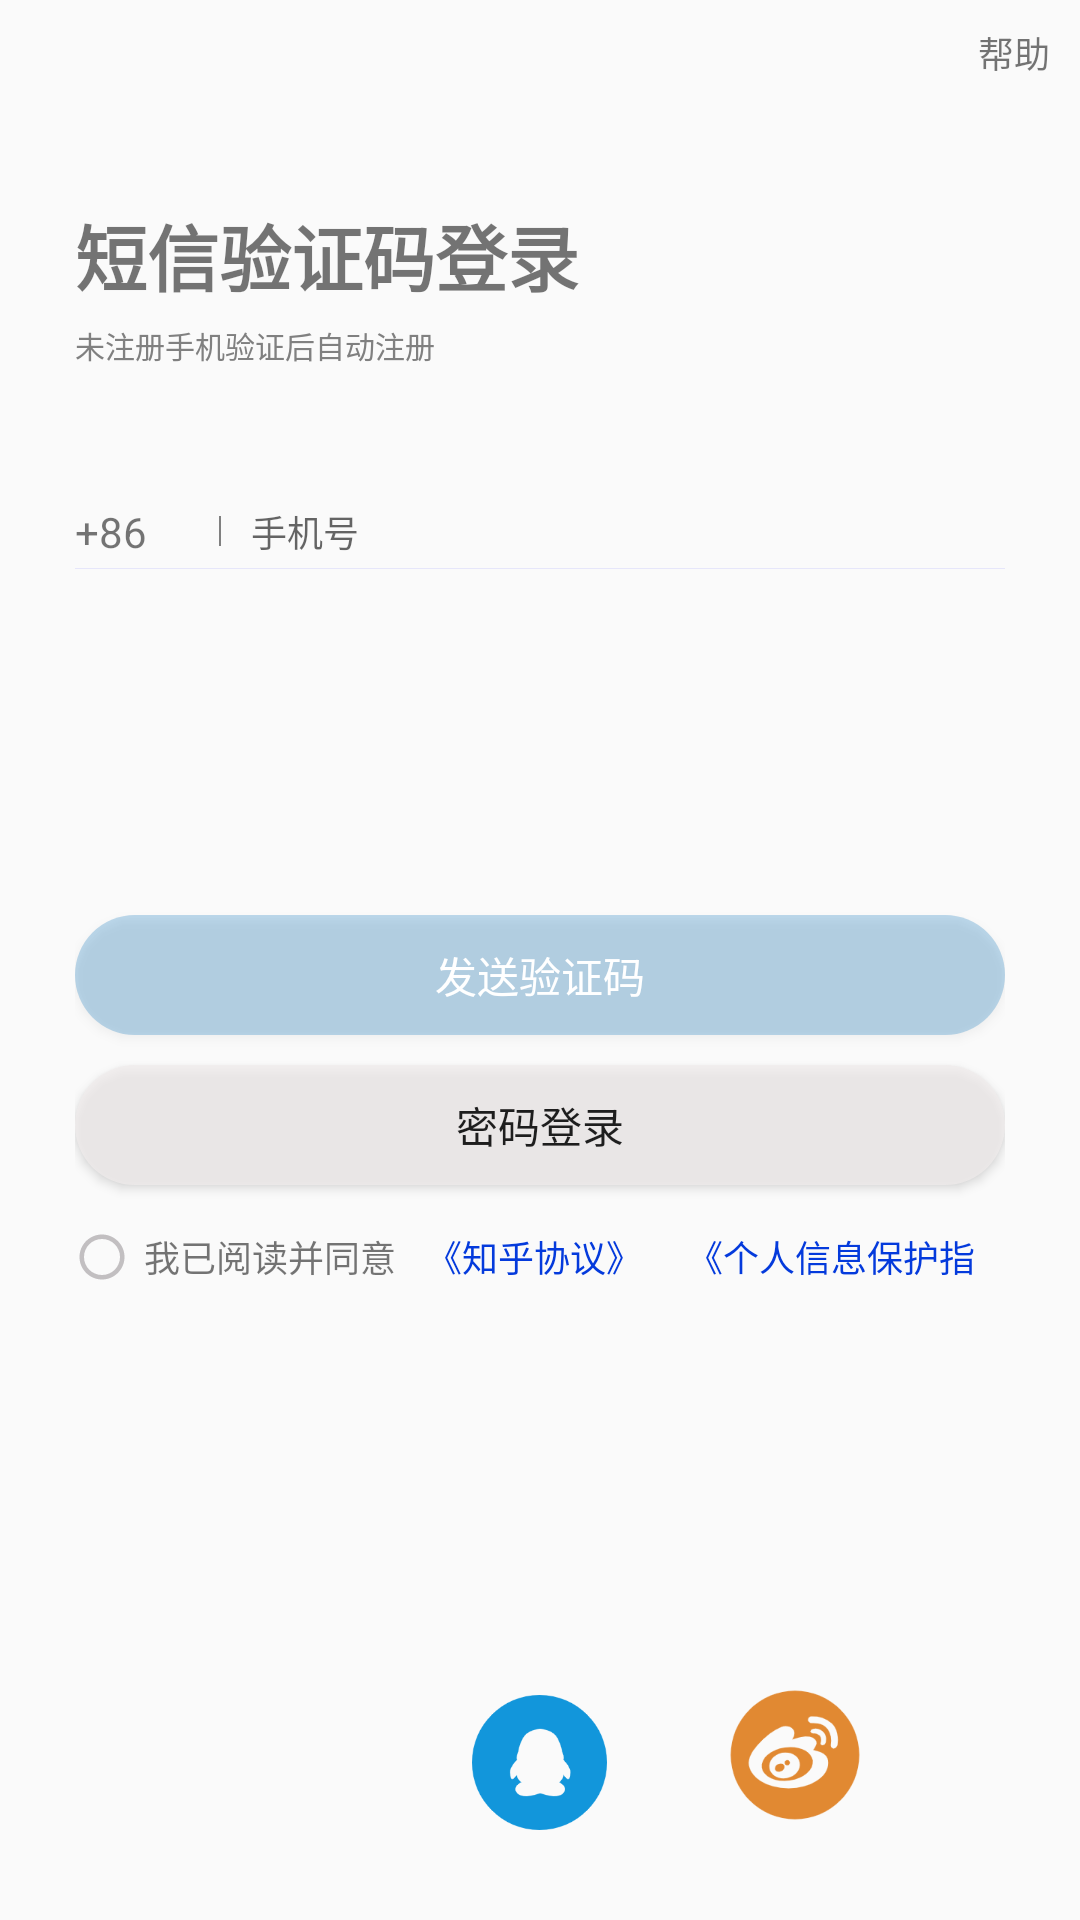

Where icons sit on this 1080 × 1920 app screen, as (x1, y1, x2, y2):
check: (79, 1234, 125, 1280)
